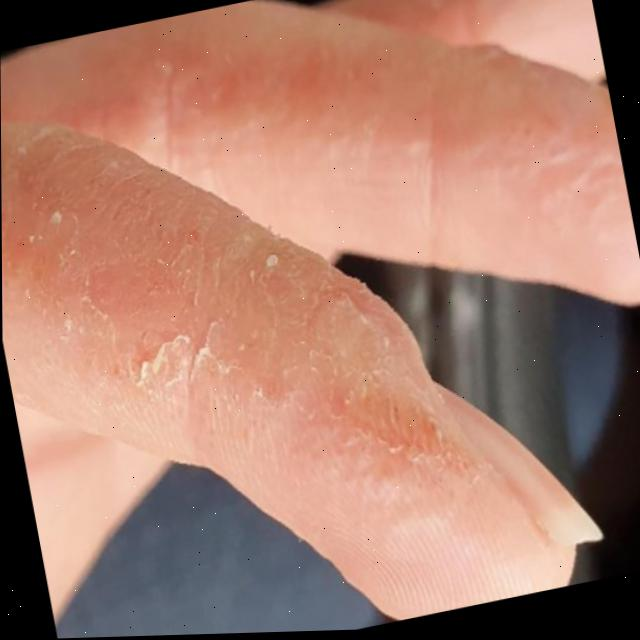Eczema: (29, 108, 477, 582)
